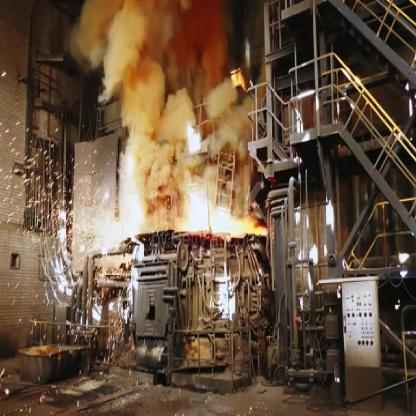smoke: (67, 3, 266, 248)
